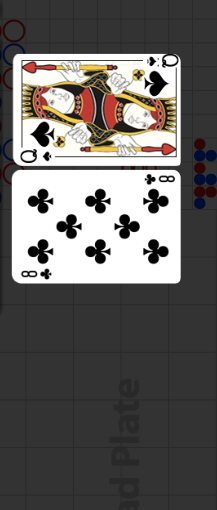8C: (20, 266, 54, 280)
9S: (144, 54, 180, 68)
